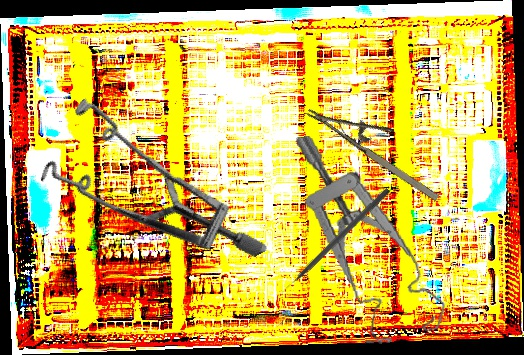Needle Holder: (305, 82, 456, 206)
Pusher: (276, 186, 391, 298)
Speculum: (17, 55, 269, 328), (293, 121, 450, 352)
